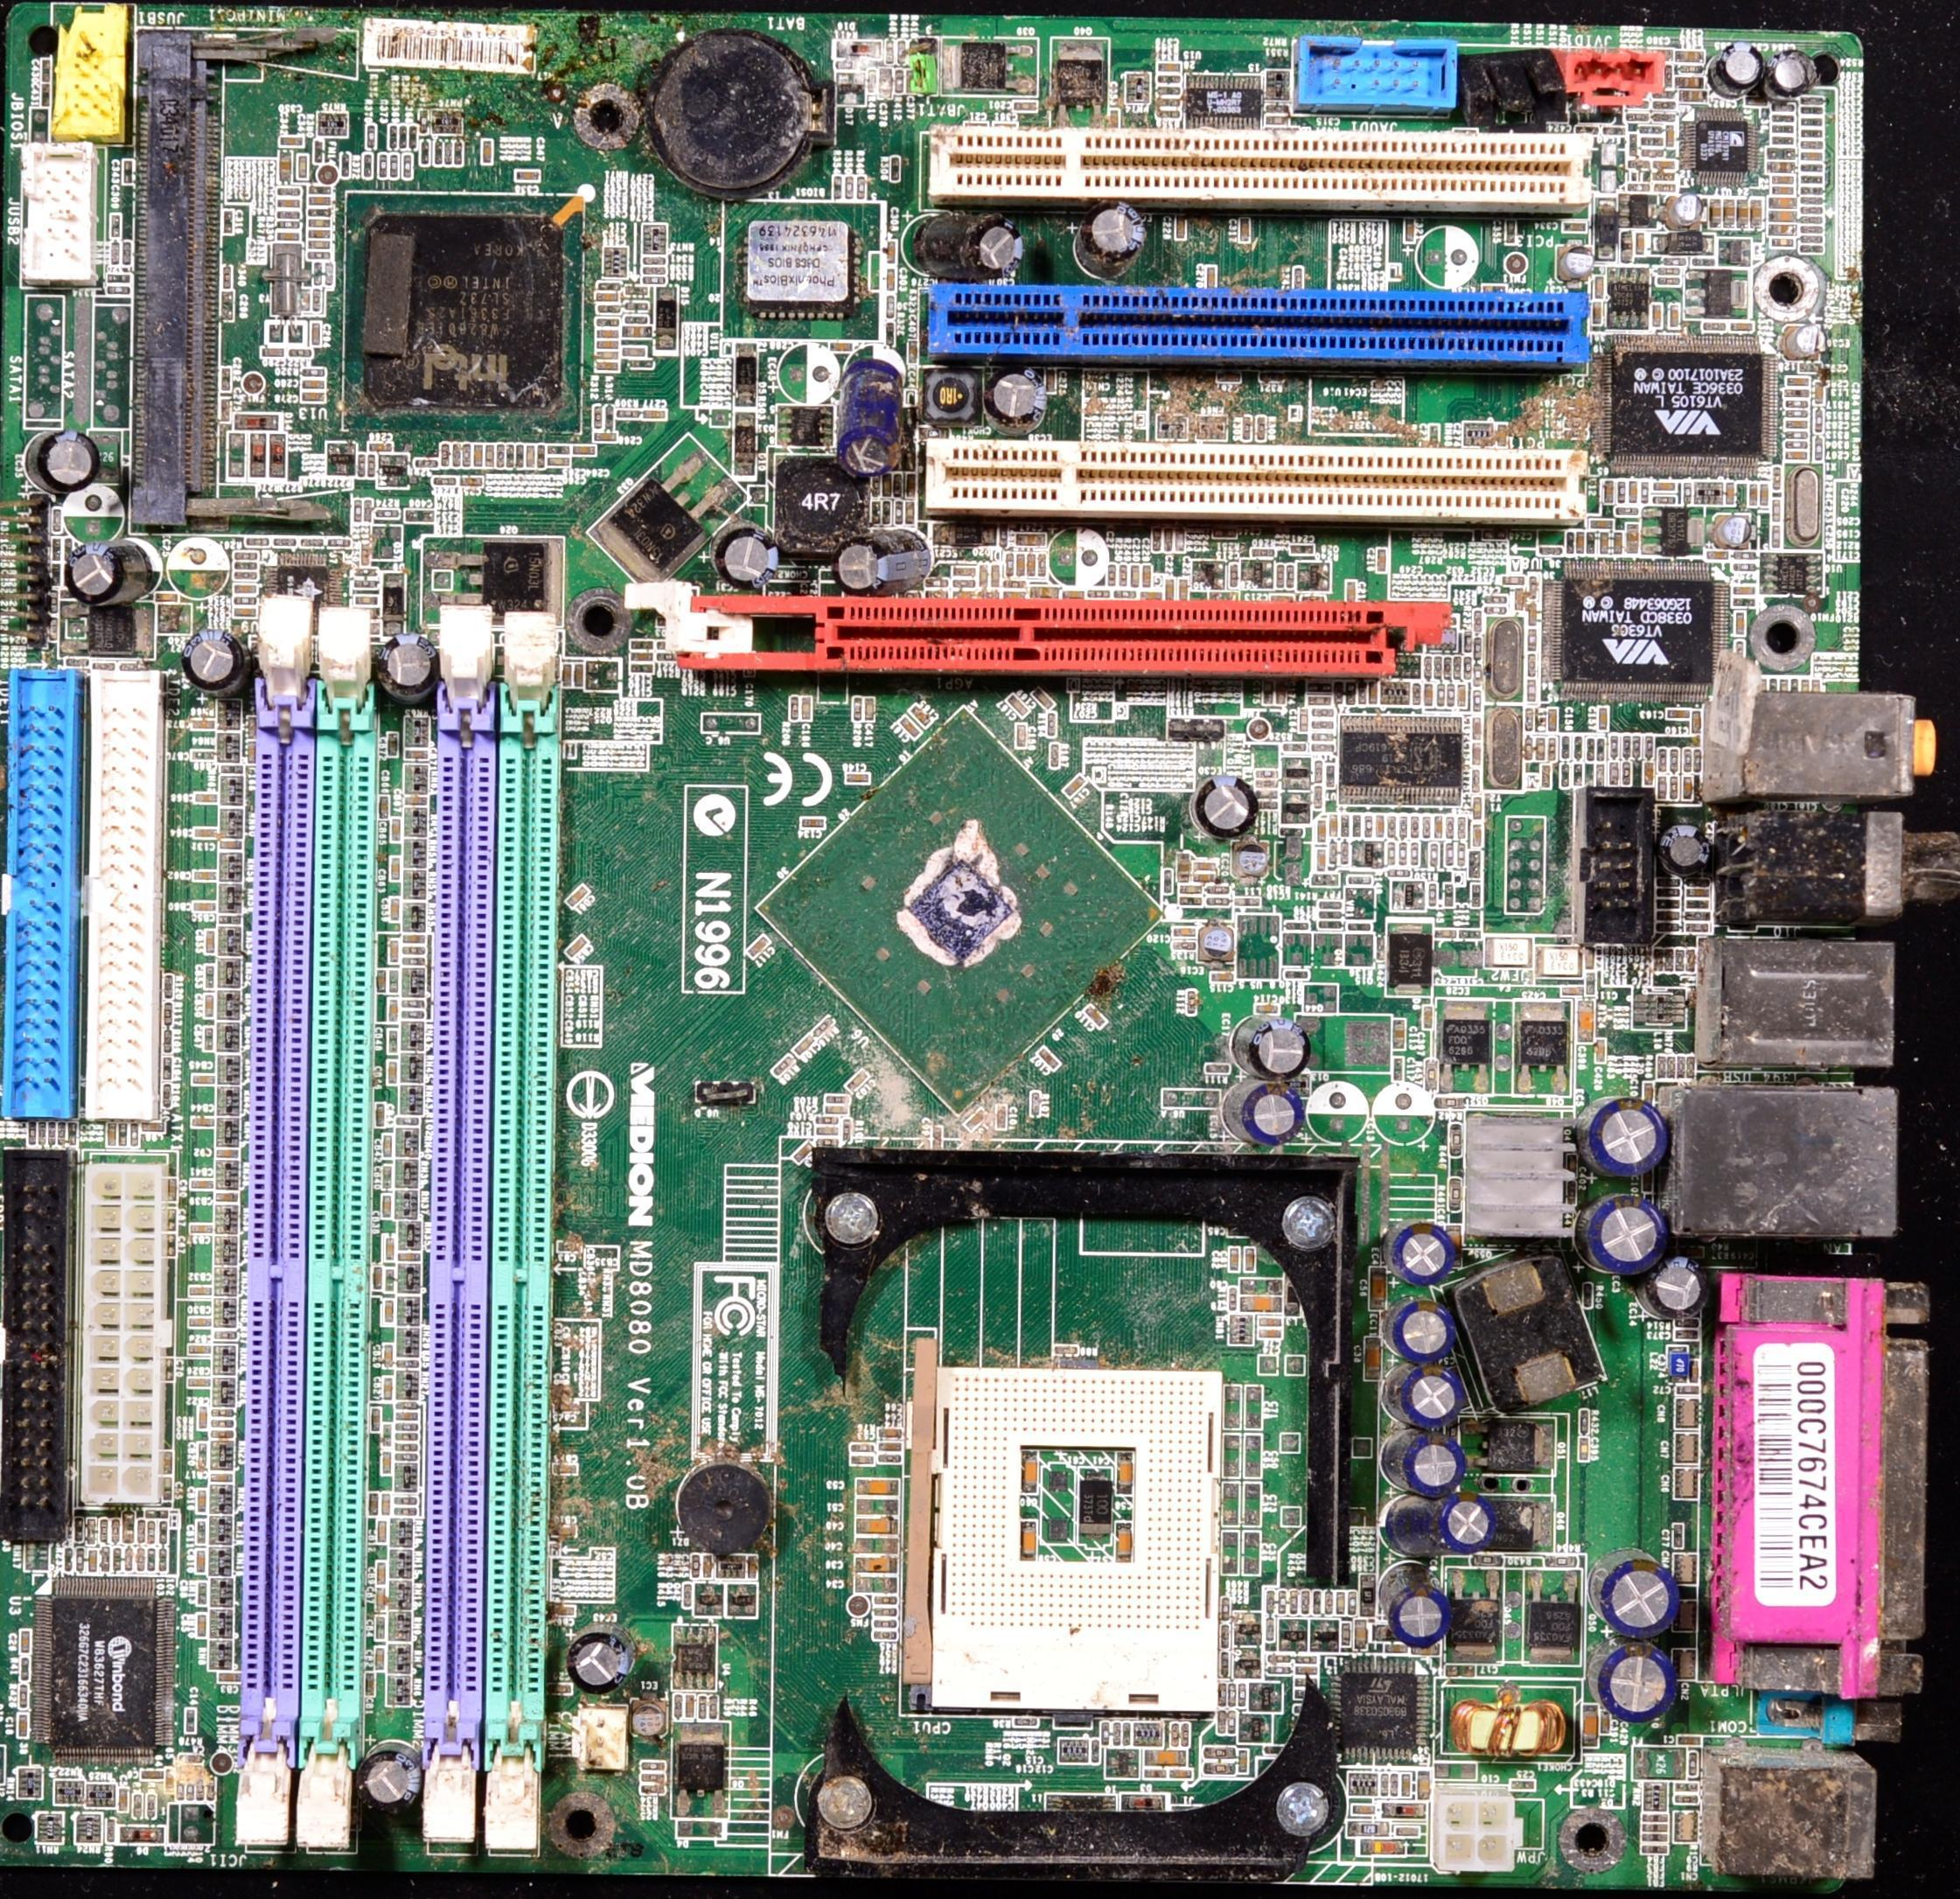Capacitor: (353, 1735, 436, 1827), (1590, 1638, 1676, 1722), (1588, 1188, 1667, 1279), (1075, 182, 1152, 270), (1601, 1559, 1684, 1639), (1588, 1100, 1672, 1177), (1379, 1214, 1457, 1295), (179, 621, 250, 702), (567, 1627, 641, 1700), (980, 366, 1060, 430), (1381, 1576, 1456, 1644), (1249, 1073, 1311, 1154), (29, 430, 103, 495), (964, 209, 1032, 278), (64, 542, 132, 611), (1397, 1431, 1471, 1492), (1439, 1495, 1504, 1564), (374, 627, 445, 690), (1389, 1303, 1454, 1368), (1252, 1017, 1315, 1084), (1642, 1256, 1708, 1315), (1399, 1367, 1461, 1430), (839, 539, 891, 611), (721, 522, 778, 588), (842, 422, 903, 479), (1197, 775, 1258, 832), (1768, 46, 1826, 99), (1709, 39, 1766, 90), (1663, 827, 1712, 876), (1196, 924, 1233, 964), (1231, 839, 1268, 875), (1237, 1290, 1285, 1313), (1114, 1451, 1135, 1495), (1011, 533, 1053, 554), (852, 1516, 898, 1534), (1022, 1453, 1043, 1492), (511, 167, 551, 186), (860, 1479, 899, 1498), (858, 1555, 899, 1573), (1117, 1523, 1133, 1561), (299, 374, 332, 394), (182, 1340, 213, 1359), (564, 933, 582, 965), (195, 1488, 212, 1522), (182, 1703, 197, 1739), (366, 1405, 383, 1435), (1021, 1524, 1034, 1563), (1768, 194, 1798, 211), (568, 883, 585, 912), (185, 1312, 214, 1329), (296, 288, 312, 318), (470, 443, 486, 472), (278, 148, 292, 183), (1736, 198, 1752, 228), (1785, 374, 1814, 391), (377, 793, 394, 822), (190, 867, 221, 882), (1676, 75, 1702, 93), (276, 197, 303, 213), (593, 291, 623, 306), (309, 214, 340, 228), (108, 1518, 122, 1546), (298, 390, 327, 405), (188, 899, 219, 913), (19, 1625, 33, 1656), (185, 1375, 212, 1391), (304, 195, 338, 207), (1172, 217, 1190, 240), (189, 1071, 217, 1086), (798, 697, 813, 725), (381, 1299, 397, 1325), (276, 132, 303, 148), (595, 327, 621, 343), (385, 939, 400, 966), (480, 136, 493, 166), (144, 1787, 156, 1821), (196, 1440, 208, 1471), (188, 1220, 215, 1234), (1139, 563, 1152, 592), (595, 429, 620, 443), (303, 241, 334, 253), (17, 1710, 29, 1742), (1673, 52, 1705, 63), (649, 409, 673, 424), (98, 1519, 111, 1546), (380, 1445, 393, 1474), (388, 852, 400, 883), (131, 1793, 143, 1821), (952, 562, 974, 576), (1769, 173, 1795, 186), (1374, 548, 1387, 574), (1174, 526, 1186, 553), (978, 561, 990, 588), (1235, 220, 1251, 241), (276, 229, 300, 243), (374, 1098, 386, 1127), (1258, 1316, 1284, 1328), (1768, 161, 1796, 172), (1496, 422, 1508, 450), (462, 476, 485, 490), (381, 1133, 393, 1160), (1800, 150, 1827, 161), (374, 1591, 386, 1618), (1161, 527, 1173, 554), (384, 1234, 394, 1266), (1203, 263, 1216, 288), (193, 790, 218, 802), (1680, 89, 1706, 101), (140, 1123, 168, 1134), (381, 1165, 393, 1190), (526, 446, 537, 471), (568, 444, 597, 454), (387, 1059, 398, 1086), (383, 1341, 394, 1368), (386, 999, 398, 1022), (213, 1192, 238, 1204), (196, 1407, 208, 1430), (380, 1489, 390, 1518), (197, 1546, 206, 1574), (373, 1645, 382, 1674), (1154, 525, 1162, 556), (305, 230, 336, 239), (1663, 124, 1673, 150), (1771, 213, 1796, 223), (624, 326, 650, 337), (90, 1547, 100, 1574), (1155, 65, 1182, 74), (213, 1419, 238, 1429), (1346, 582, 1360, 600), (1625, 113, 1651, 122), (187, 1286, 216, 1295), (849, 1443, 875, 1453), (195, 1612, 204, 1641), (703, 1555, 714, 1579), (106, 1121, 115, 1147), (192, 718, 215, 729), (192, 827, 215, 838), (1770, 226, 1795, 235), (1732, 586, 1756, 596), (1027, 554, 1037, 576), (129, 1121, 139, 1145), (118, 1787, 126, 1816), (383, 1374, 390, 1407), (378, 1559, 386, 1587), (167, 1765, 175, 1793), (402, 935, 429, 943), (879, 1428, 902, 1437), (210, 1431, 233, 1440), (206, 995, 214, 1019), (747, 1558, 756, 1579), (125, 1546, 133, 1568), (217, 1150, 241, 1157), (879, 1443, 903, 1450), (210, 1409, 234, 1415), (394, 894, 398, 923), (1007, 556, 1013, 576), (378, 1520, 382, 1541)
Connector: (1733, 1267, 1951, 1700), (1671, 1076, 1905, 1239), (86, 680, 161, 1122), (9, 667, 74, 1112), (0, 1150, 67, 1550), (1718, 815, 1956, 925), (84, 1157, 157, 1513), (1702, 949, 1903, 1072), (1700, 1762, 1898, 1882), (1727, 698, 1923, 792), (21, 143, 108, 295), (57, 3, 128, 148)
IC: (358, 213, 579, 401), (43, 1579, 169, 1756), (1612, 353, 1765, 461), (1561, 580, 1709, 684), (1342, 719, 1464, 805), (478, 541, 558, 609), (675, 1733, 738, 1793), (1691, 117, 1747, 175), (1184, 84, 1265, 120), (675, 1641, 711, 1680), (1081, 1477, 1111, 1523), (1610, 280, 1652, 310), (1564, 246, 1596, 280), (1671, 228, 1707, 255), (330, 441, 358, 472), (1599, 212, 1621, 247), (1629, 193, 1649, 227)
Resistor: (654, 286, 677, 348), (1166, 718, 1224, 742), (585, 659, 625, 690), (1294, 559, 1329, 593), (318, 110, 351, 143), (1196, 556, 1227, 590), (644, 220, 671, 257), (213, 1199, 241, 1234), (429, 104, 460, 135), (401, 718, 432, 750), (383, 1674, 413, 1707), (1466, 419, 1498, 449), (380, 453, 408, 488), (391, 1125, 421, 1156), (695, 1587, 724, 1619), (1244, 559, 1269, 596), (75, 1812, 105, 1843), (17, 1764, 45, 1798), (395, 1261, 422, 1294), (603, 243, 630, 276), (210, 1439, 238, 1470), (207, 1575, 234, 1607), (213, 1294, 239, 1327), (395, 1463, 422, 1494), (389, 1577, 412, 1613), (1125, 73, 1149, 107), (87, 1781, 114, 1811), (399, 1222, 425, 1253), (210, 1642, 236, 1672), (38, 1811, 63, 1842), (213, 1236, 240, 1266), (398, 1052, 423, 1083), (219, 851, 241, 885), (214, 1023, 239, 1054), (210, 1481, 234, 1512), (214, 1121, 242, 1148), (393, 1188, 420, 1216), (1380, 678, 1410, 703), (218, 956, 242, 987), (387, 1611, 411, 1642), (213, 1267, 237, 1299), (390, 1644, 414, 1675), (405, 806, 428, 838), (215, 1057, 239, 1087), (219, 807, 242, 838), (399, 1369, 420, 1403), (52, 1781, 84, 1804), (397, 1295, 421, 1324), (218, 699, 241, 730), (401, 966, 423, 997), (218, 988, 240, 1020), (211, 1610, 236, 1637), (209, 1515, 234, 1543), (401, 839, 424, 869), (402, 900, 424, 931), (213, 1344, 236, 1372), (209, 1546, 232, 1574), (390, 1548, 410, 1581), (407, 765, 429, 795), (407, 869, 428, 900), (215, 886, 240, 912), (729, 1588, 753, 1614), (216, 926, 240, 953), (402, 1023, 425, 1051), (213, 1377, 237, 1403), (218, 736, 241, 762), (218, 1086, 238, 1116), (399, 1084, 421, 1112), (391, 1516, 410, 1546), (217, 1161, 236, 1190), (221, 776, 240, 806), (399, 1332, 417, 1358), (1154, 415, 1175, 438), (399, 1161, 415, 1188), (1769, 144, 1795, 161), (1768, 100, 1797, 113), (1656, 897, 1683, 911), (71, 1514, 84, 1543), (1621, 730, 1632, 762), (361, 152, 373, 182), (1802, 104, 1829, 117), (788, 693, 799, 724), (1656, 920, 1680, 933), (402, 1006, 423, 1021), (402, 998, 428, 1010), (18, 1658, 31, 1682), (338, 150, 348, 178), (1300, 698, 1331, 708), (1608, 732, 1619, 761), (850, 1456, 875, 1469), (720, 1560, 743, 1573), (1583, 734, 1594, 762), (433, 139, 444, 164), (1684, 912, 1711, 923), (1658, 1054, 1669, 1080), (366, 122, 376, 148), (1772, 115, 1800, 124), (163, 1059, 174, 1083), (65, 1547, 75, 1573), (445, 137, 455, 164), (1558, 764, 1567, 791), (1572, 764, 1583, 786), (1731, 597, 1755, 607), (683, 1581, 692, 1610), (1687, 898, 1711, 909), (1687, 924, 1711, 934), (158, 1519, 169, 1543), (1559, 732, 1570, 756), (1435, 686, 1447, 706), (164, 1028, 173, 1056), (387, 127, 397, 152), (393, 1423, 418, 1433), (400, 121, 408, 151), (164, 1003, 175, 1024), (1677, 1056, 1687, 1079), (690, 1555, 701, 1578), (1807, 118, 1824, 131), (401, 156, 411, 178), (1667, 1054, 1677, 1078), (877, 1452, 901, 1462), (158, 1547, 168, 1571), (379, 154, 387, 179), (394, 1442, 417, 1451), (1801, 175, 1824, 185), (1447, 684, 1456, 707), (1797, 164, 1822, 173), (1654, 100, 1674, 110), (1413, 684, 1425, 702), (1732, 564, 1758, 572), (411, 123, 417, 157), (1689, 1058, 1699, 1078), (19, 1683, 27, 1708), (402, 957, 425, 966), (1732, 552, 1760, 559), (1656, 914, 1680, 922), (389, 155, 398, 177), (404, 946, 423, 955), (147, 1547, 155, 1570), (1426, 655, 1433, 678), (165, 972, 172, 997), (1643, 125, 1661, 135), (120, 1124, 128, 1146), (1771, 136, 1796, 143), (1549, 738, 1556, 761), (1774, 126, 1794, 134), (1157, 79, 1182, 85), (1599, 741, 1607, 760), (395, 1434, 420, 1440), (1157, 87, 1177, 94), (1636, 734, 1641, 759), (1802, 129, 1823, 136), (136, 1519, 142, 1541), (1689, 1054, 1691, 1056)
Transistor: (1431, 991, 1496, 1097), (1510, 998, 1576, 1096)
